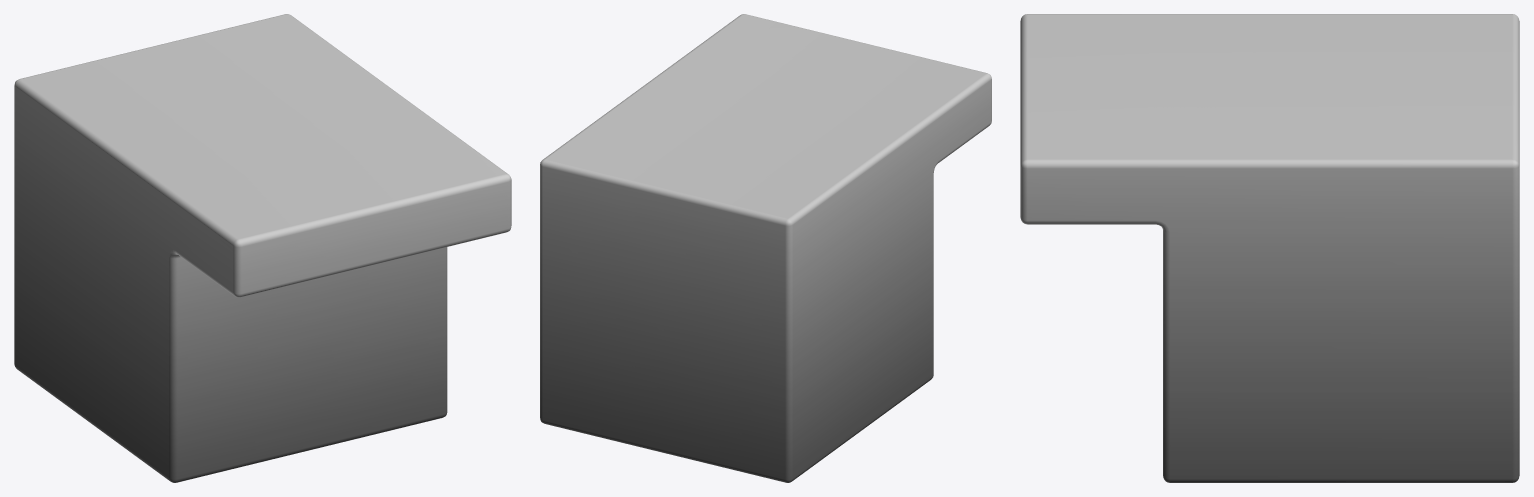
The model's file is HH_Counter_1Unit.fbx.
3 views of the same model, side by side, from view 1: azimuth 30°, elevation 25°; view 2: azimuth 150°, elevation 25°; view 3: azimuth 270°, elevation 25° (orthographic). The views are drawn at different scales.
Visible parts, largest first — view 1: Counter_1Unit; view 2: Counter_1Unit; view 3: Counter_1Unit.
Part boxes in pixels (x1=…): Counter_1Unit: x1=14, y1=14, x2=511, y2=482; Counter_1Unit: x1=540, y1=14, x2=991, y2=482; Counter_1Unit: x1=1020, y1=14, x2=1519, y2=482.
Bounding box in the file's own units: 100 × 100 × 140.
1 material, 1 textured.
